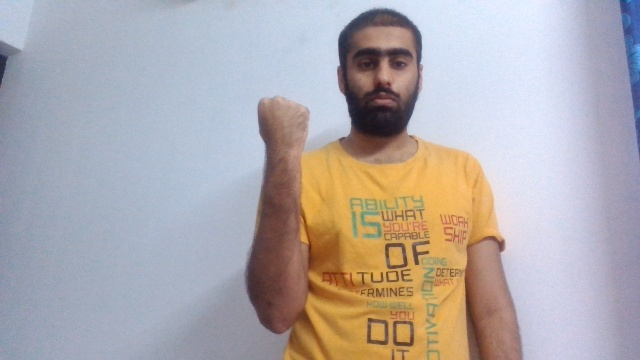rock: (256, 94, 310, 154)
